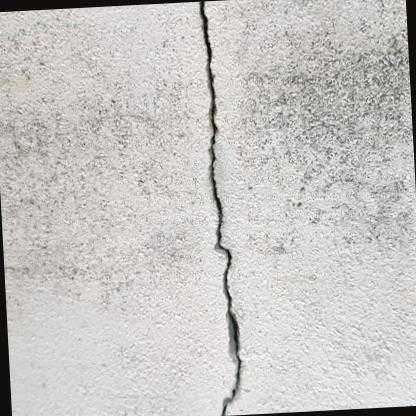crack: (198, 0, 241, 416)
